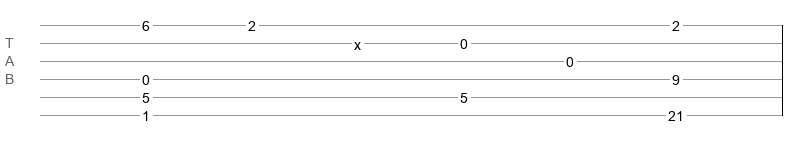0: (142, 72, 150, 82), (460, 36, 468, 46), (566, 54, 574, 64)
1: (142, 108, 150, 118)
2: (248, 18, 256, 28), (672, 18, 680, 28)
21: (668, 108, 684, 118)
5: (142, 90, 150, 100), (460, 90, 468, 100)
6: (142, 18, 150, 28)
9: (672, 72, 680, 82)
x: (354, 37, 361, 45)
